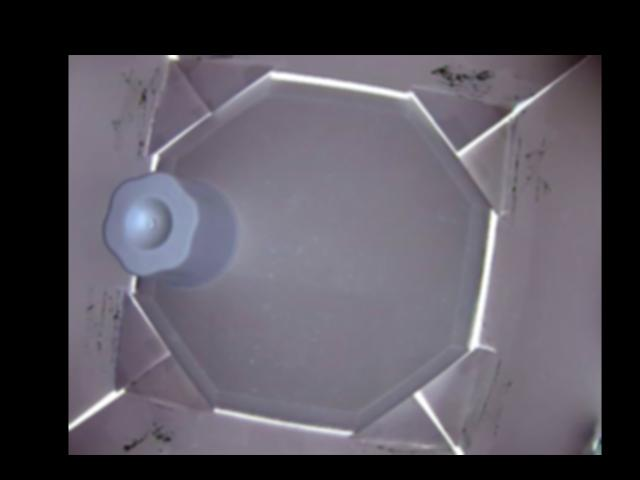Cup: (100, 173, 241, 285)
